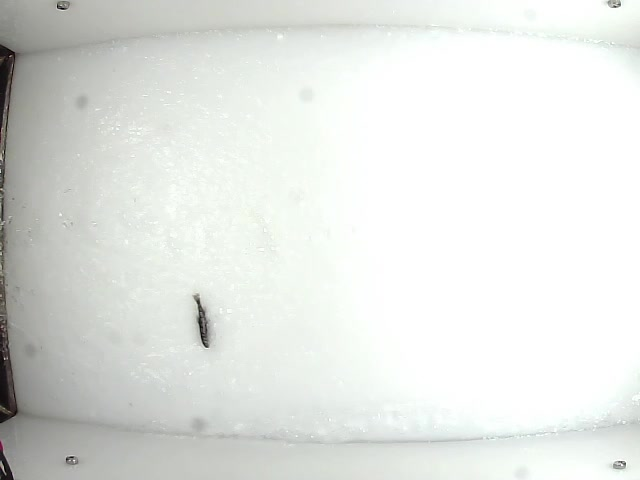fish: (190, 291, 212, 351)
